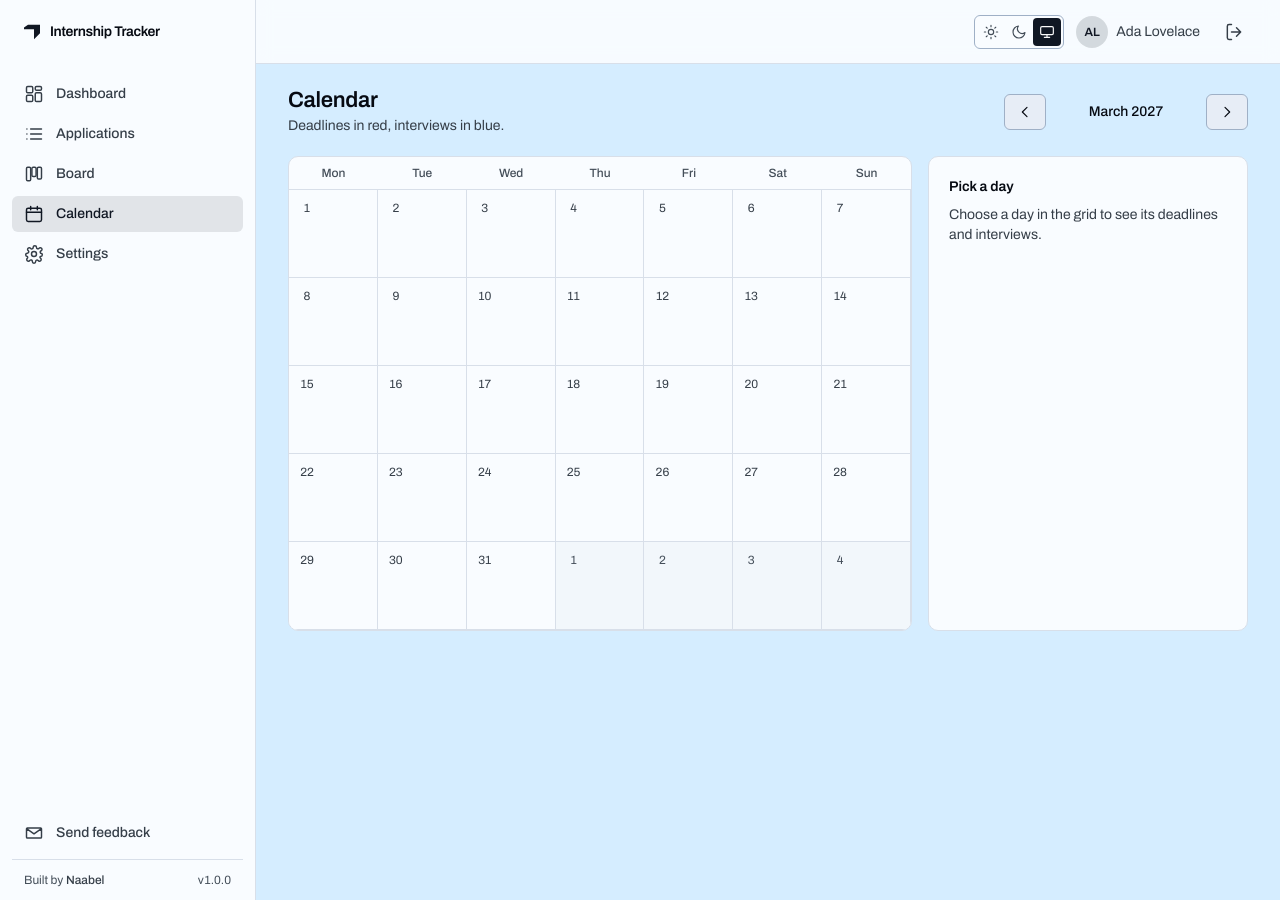
Test: day panel heading › viewing 2027-03 and picking 3 March 2027 reads "Wednesday 3 March 2027"
Click the 1st cell "3".
click(511, 234)  # box [467,190,556,278]
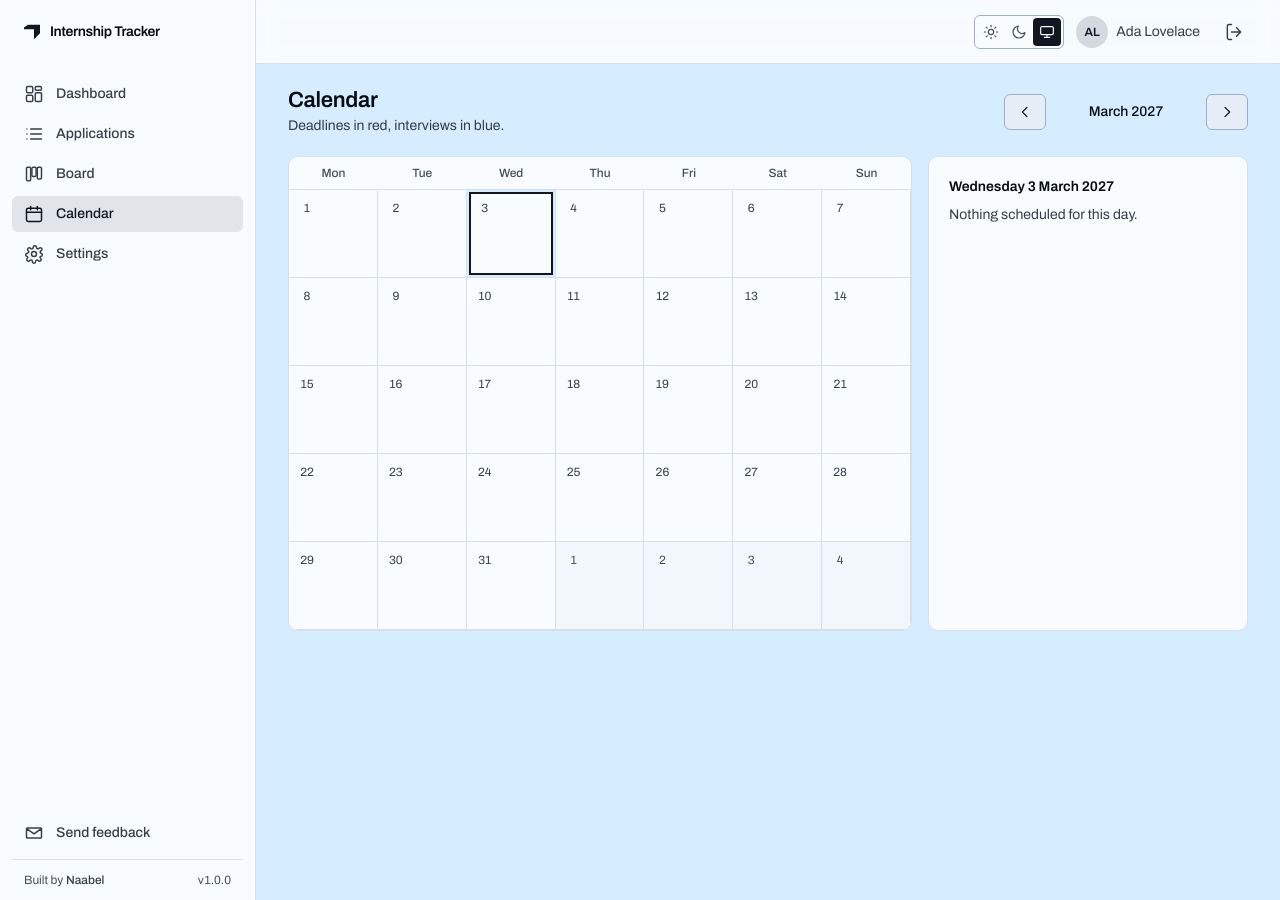
Expected: the heading "Wednesday 3 March 2027" is shown, [949,179,1114,194]
